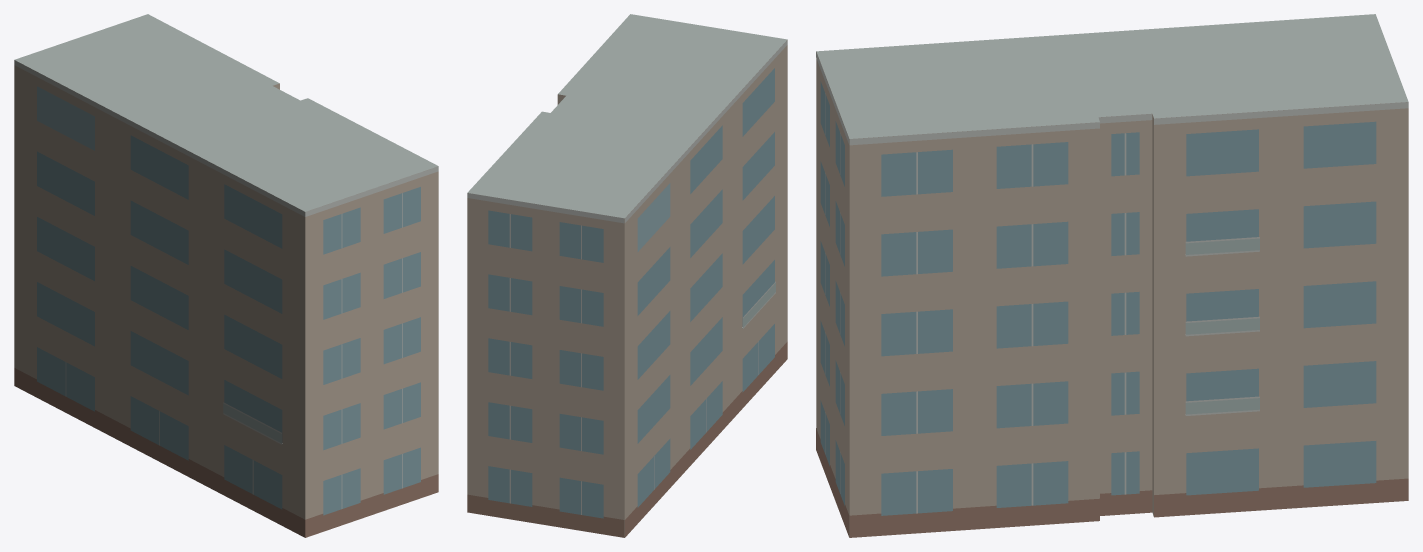
File: survey-upis-32575531.glb
3 views of the same model, side by side, from view 1: azimuth 30°, elevation 25°; view 2: azimuth 150°, elevation 25°; view 3: azimuth 270°, elevation 25° (orthographic). The views are drawn at different scales.
Parts seen in each view (by area): view 1: survey-upis-32575531.tmp; view 2: survey-upis-32575531.tmp; view 3: survey-upis-32575531.tmp.
Boxes of the visible parts, <box> form: survey-upis-32575531.tmp: <box>14,14,438,537</box>; survey-upis-32575531.tmp: <box>467,14,787,537</box>; survey-upis-32575531.tmp: <box>816,14,1408,537</box>.
Bounding box in the file's own units: 10.33 × 15.35 × 20.67.
